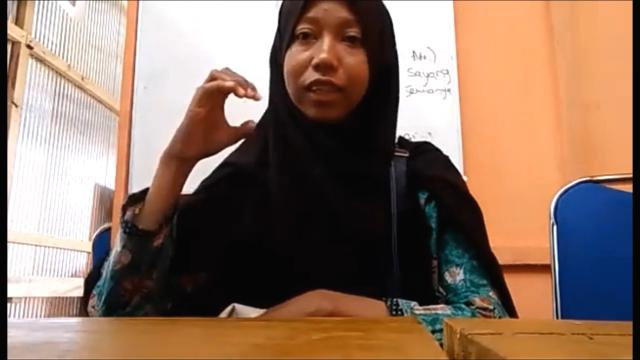C: (164, 65, 262, 159)
